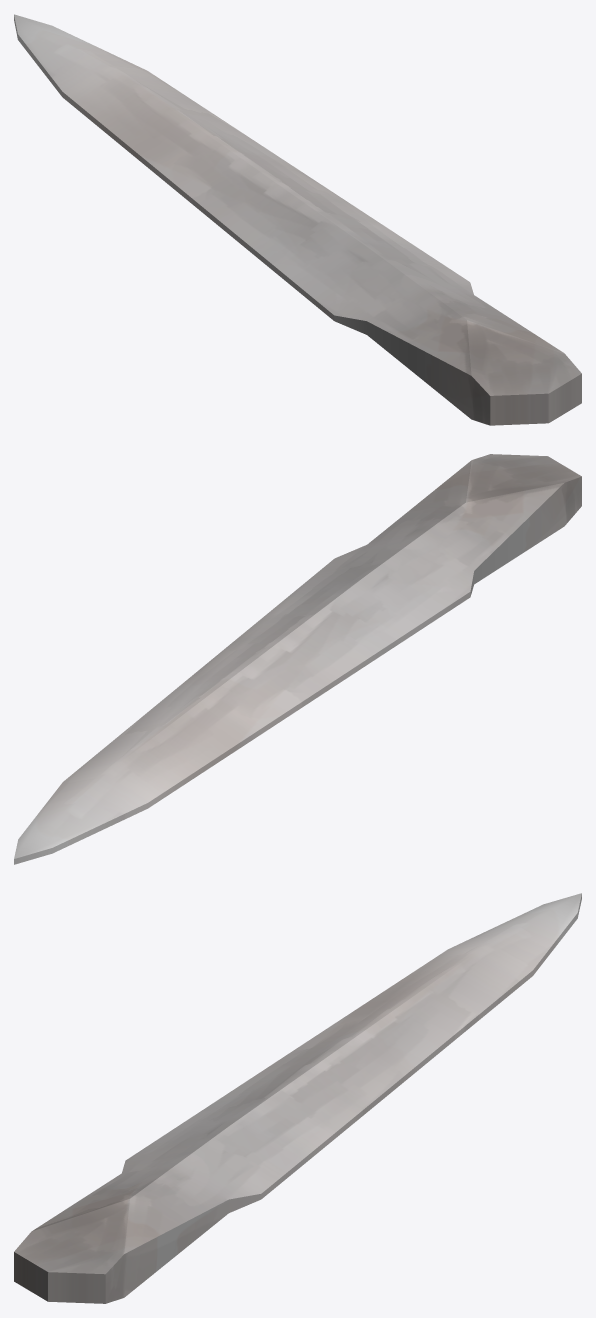
Rendered from blade1.FBX.
3 views of the same model, one above another, from view 1: azimuth 30°, elevation 25°; view 2: azimuth 150°, elevation 25°; view 3: azimuth 330°, elevation 25° (orthographic).
Visible parts, largest first — view 1: blade001; view 2: blade001; view 3: blade001.
Part boxes in pixels (x1,y1,x2,y2): blade001: [14, 14, 581, 425]; blade001: [14, 454, 581, 864]; blade001: [14, 893, 581, 1303].
Bounding box in the file's own units: 0.1532 × 1.04 × 0.0611.
